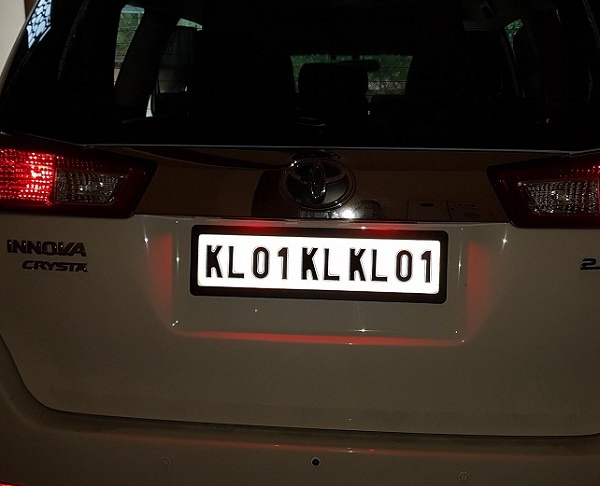plate: (183, 219, 457, 320)
